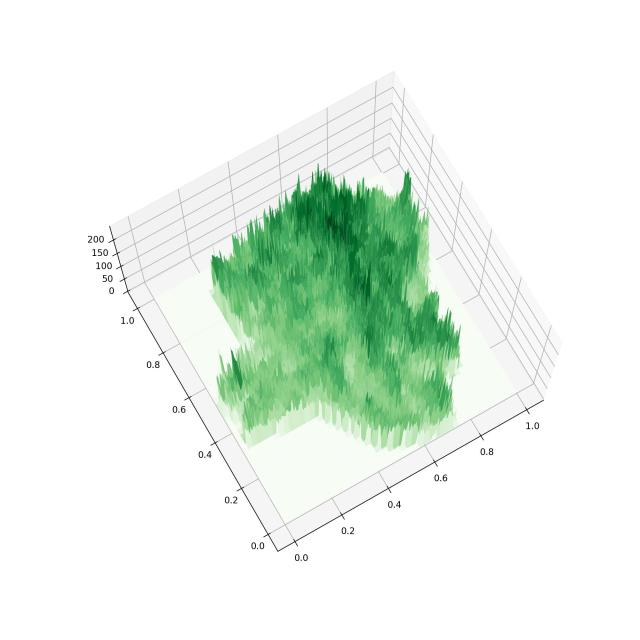spruce: (64, 51, 609, 622)
